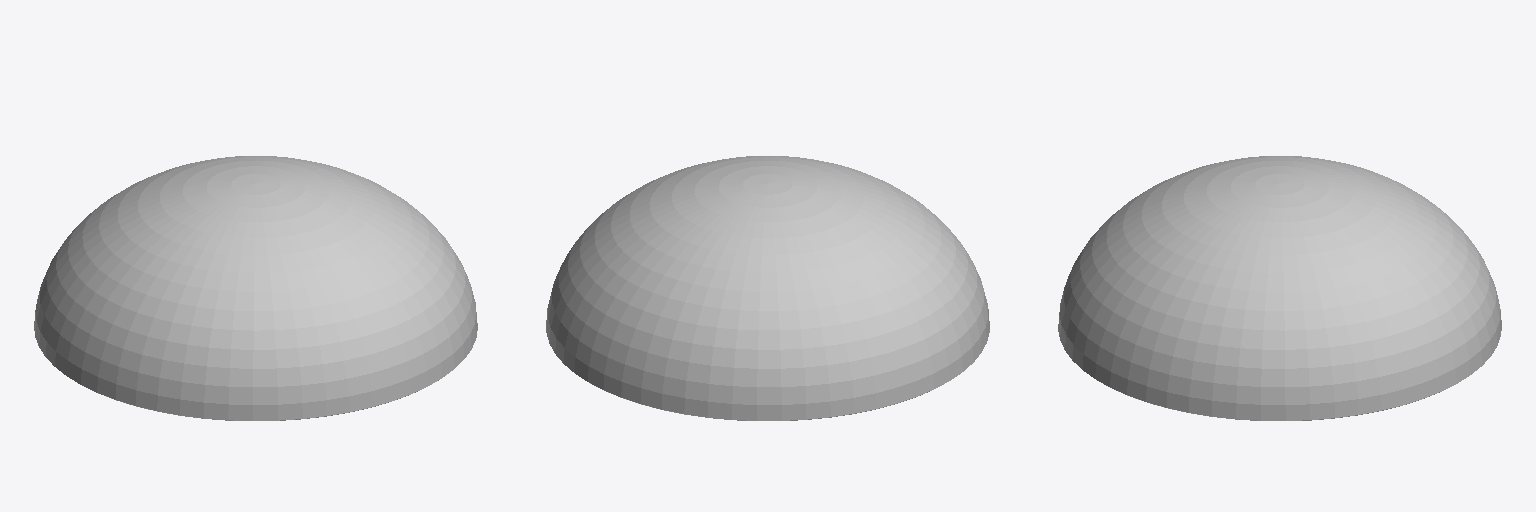
Rendered from light_1.obj.
The picture shows the model from 3 angles: view 1: azimuth 30°, elevation 25°; view 2: azimuth 150°, elevation 25°; view 3: azimuth 270°, elevation 25°; orthographic projection.
Parts seen in each view (by area): view 1: light_1_Sphere002; view 2: light_1_Sphere002; view 3: light_1_Sphere002.
Boxes of the visible parts, <box> form: light_1_Sphere002: <box>34,156,477,420</box>; light_1_Sphere002: <box>546,156,989,420</box>; light_1_Sphere002: <box>1058,156,1501,420</box>.
Bounding box in the file's own units: 0.3803 × 0.1374 × 0.3803.